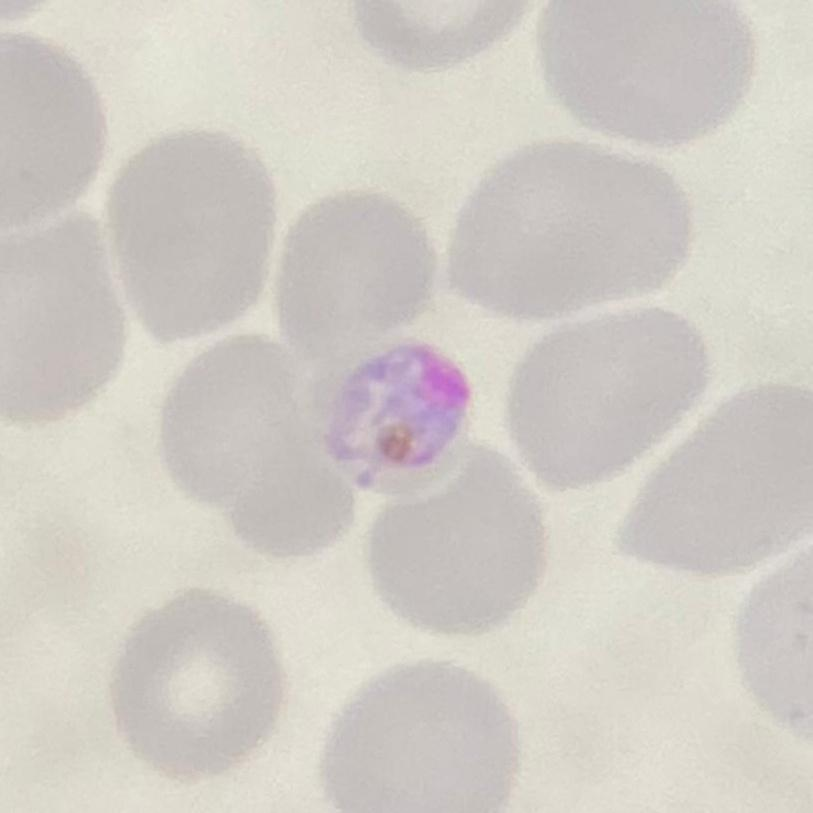Infected: (313, 324, 488, 502)
Uninfected: (450, 143, 688, 322), (159, 335, 352, 553), (622, 385, 813, 577), (507, 308, 709, 487), (110, 587, 290, 782), (112, 134, 278, 343), (364, 453, 546, 639), (537, 0, 749, 147), (318, 663, 520, 812), (273, 186, 438, 361), (2, 210, 124, 422), (3, 35, 110, 234)
